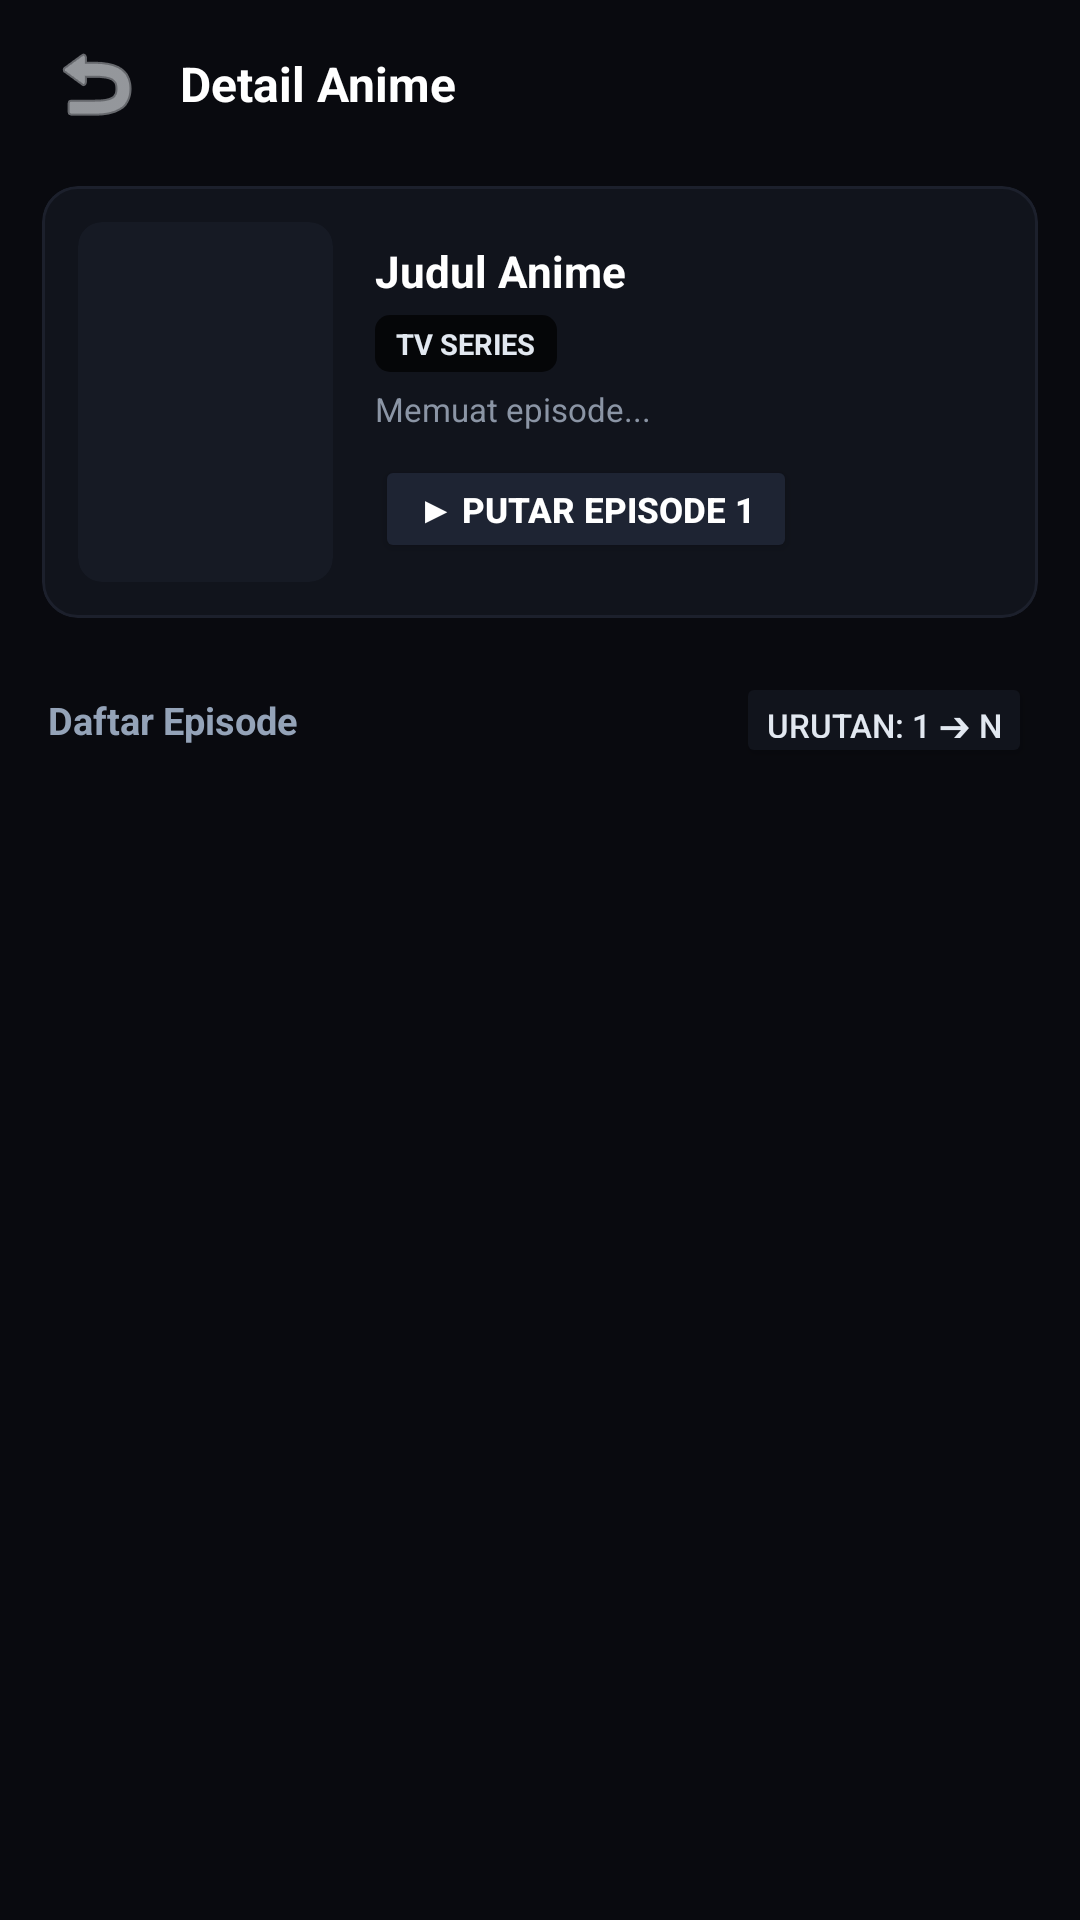

Where to tap for icons on this 1080×1920 app screen, as (x=x, y=y):
Kembali: (x=97, y=84)
